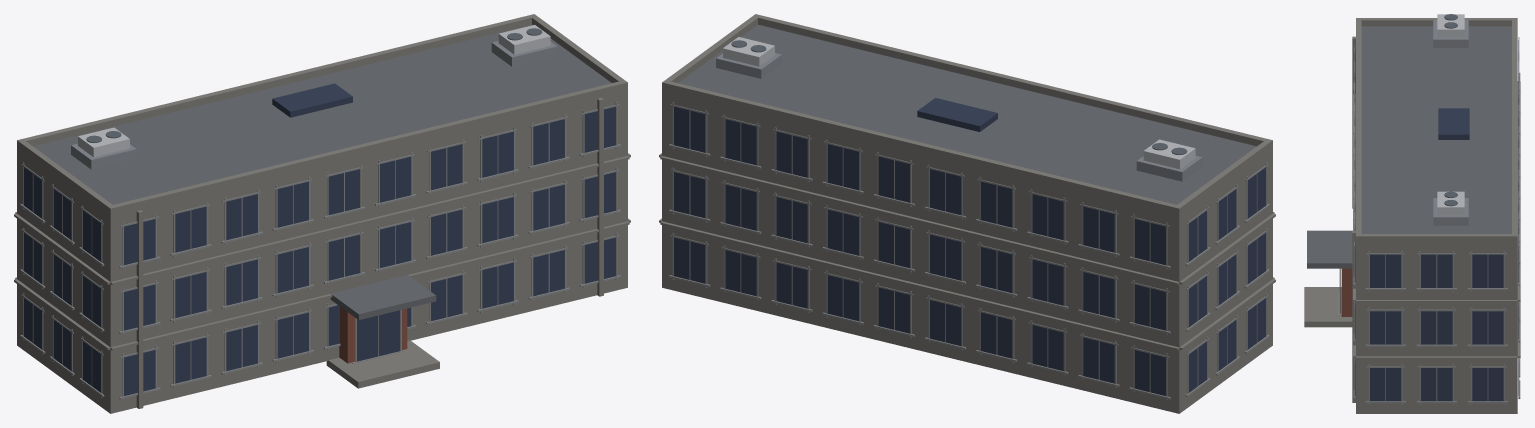
Rendered from civic_long_10_lvl1.glb.
The picture shows the model from 3 angles, left to right: view 1: azimuth 30°, elevation 25°; view 2: azimuth 150°, elevation 25°; view 3: azimuth 270°, elevation 25°; orthographic projection. The views are drawn at different scales.
Parts seen in each view (by area): view 1: civic_long_10; view 2: civic_long_10; view 3: civic_long_10.
Boxes of the visible parts, bbox=[...] form: civic_long_10: bbox=[14, 14, 630, 413]; civic_long_10: bbox=[659, 14, 1275, 413]; civic_long_10: bbox=[1304, 14, 1520, 413].
Size of the model in its own units: 1 by 0.4223 by 0.4142.
